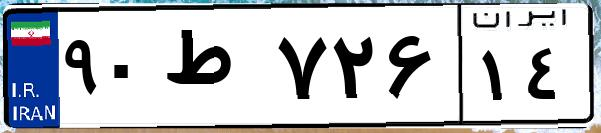0: (110, 28, 158, 98)
1: (475, 38, 525, 113)
2: (330, 28, 385, 110)
4: (525, 38, 570, 115)
6: (385, 28, 445, 110)
7: (270, 28, 330, 110)
9: (57, 26, 110, 100)
ط: (158, 20, 270, 120)
